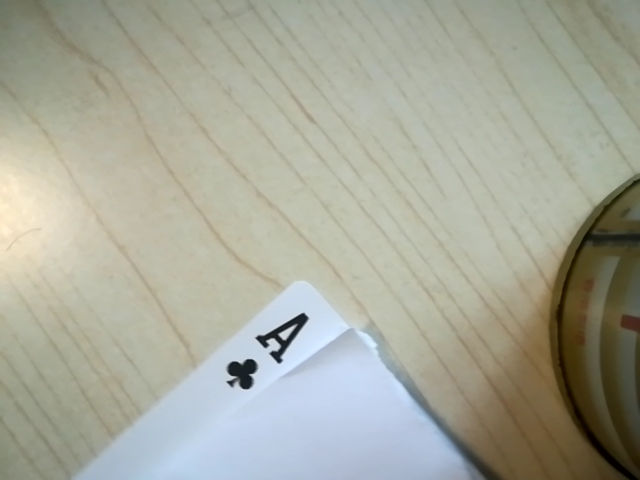mh a: (214, 307, 328, 398)
